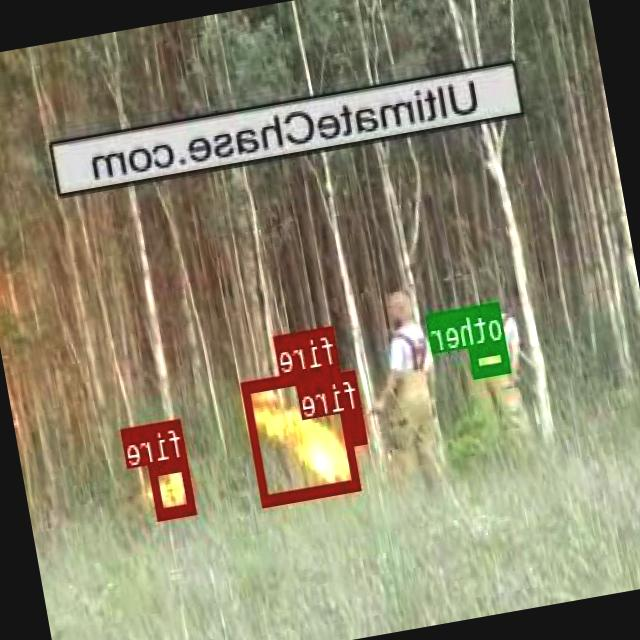fire: (242, 364, 362, 503), (149, 458, 197, 518), (348, 408, 368, 442)
